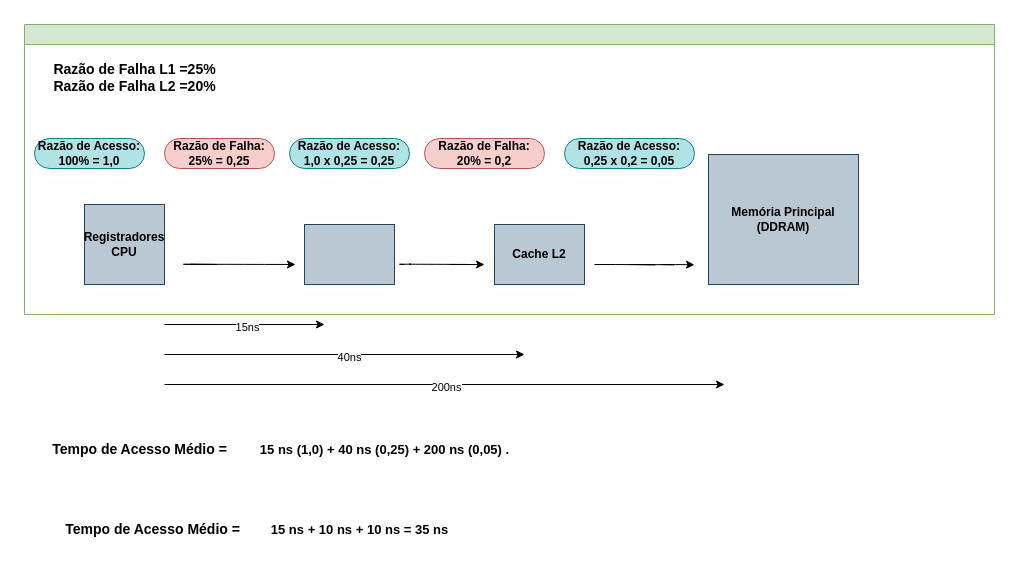
This 1012x562 diagram has some shape labels left out. Here are the shapes that lost their labels. From the top down, the box of each, then its label:
(24, 24, 994, 314): Arquitetura com duas Caches
(304, 224, 394, 284): Cache L1
